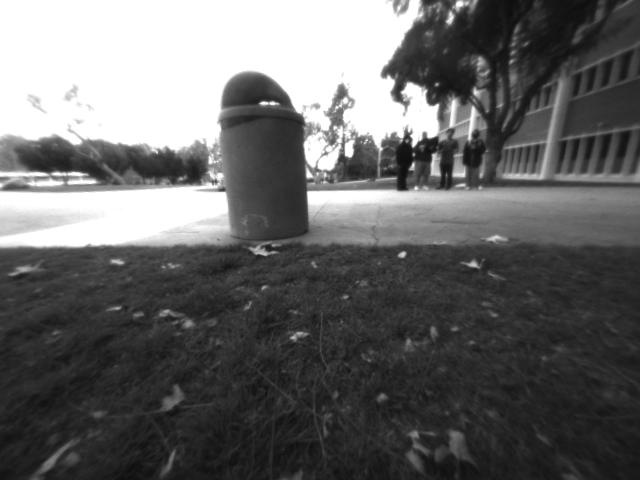trashcan: (208, 67, 323, 246)
